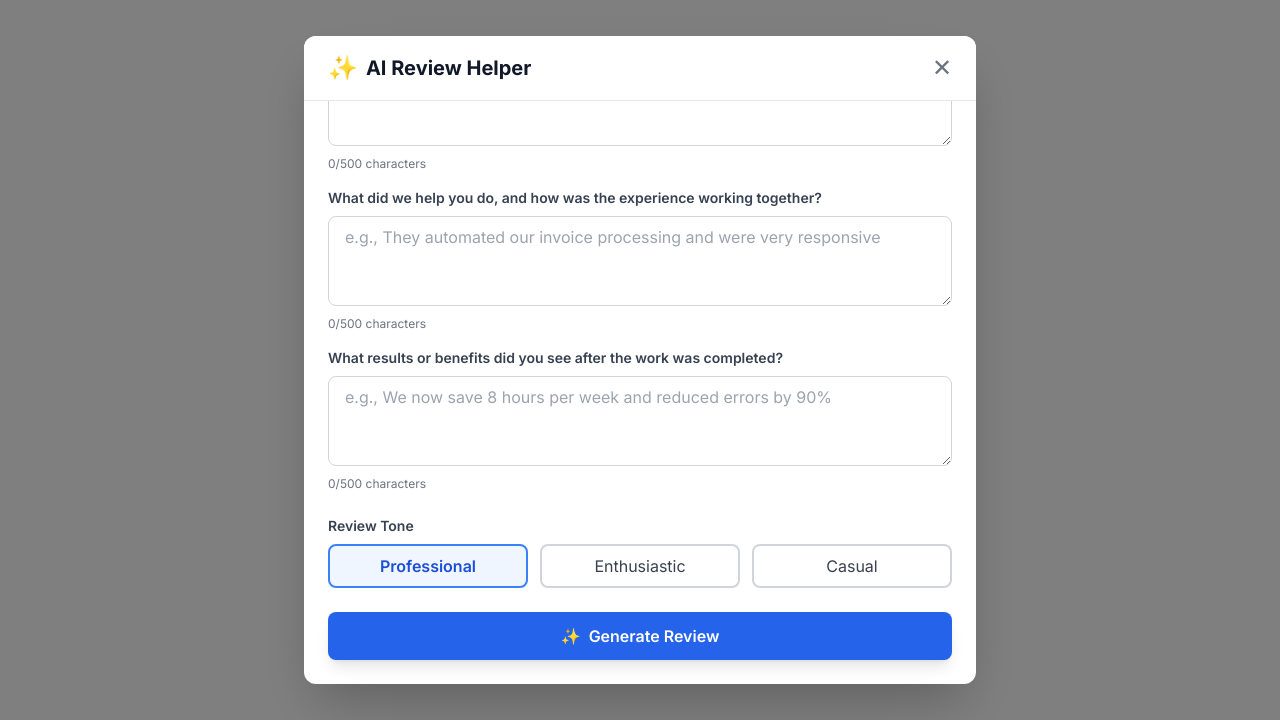
Test case: AIReviewHelper › Review Generation › should generate review in demo mode (no webhook)
The width and height of the screenshot is (1280, 720).
(page scrolled)
Click the button "✨ Generate Review" at (640, 636), box [328, 612, 952, 660]
(page scrolled)
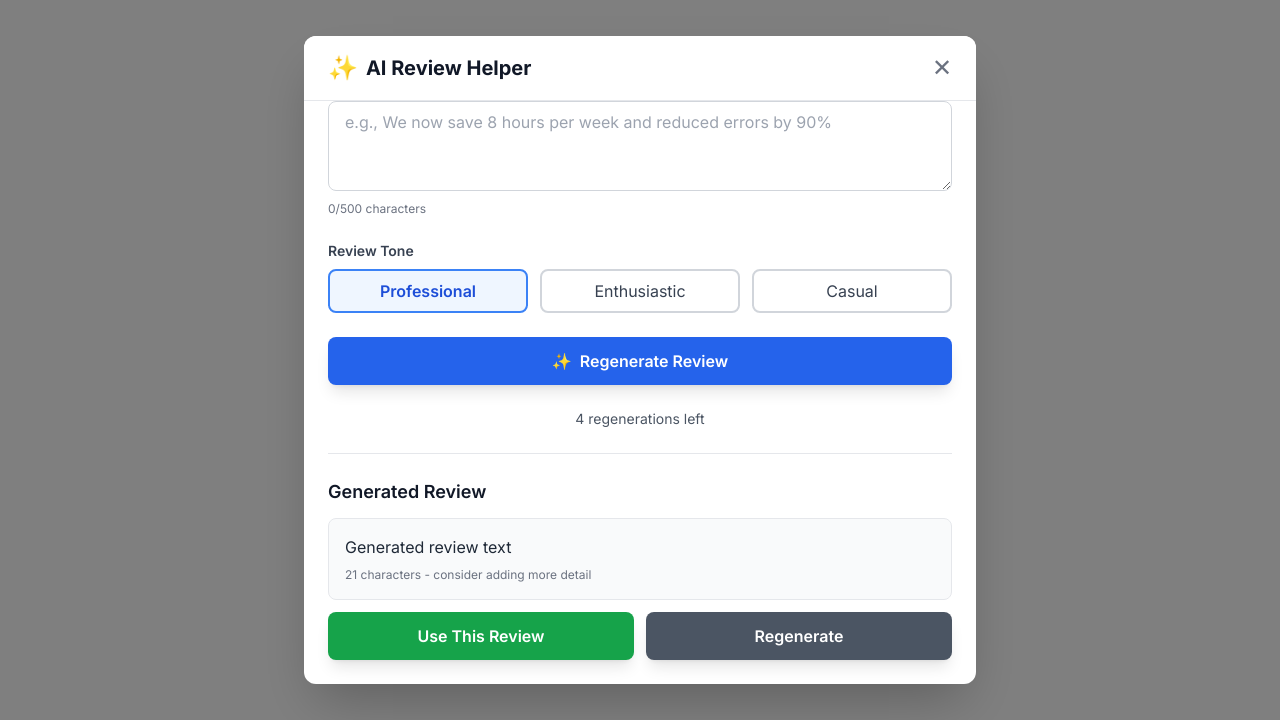
Check: the heading "Generated Review" is shown, box [328, 481, 486, 502]
